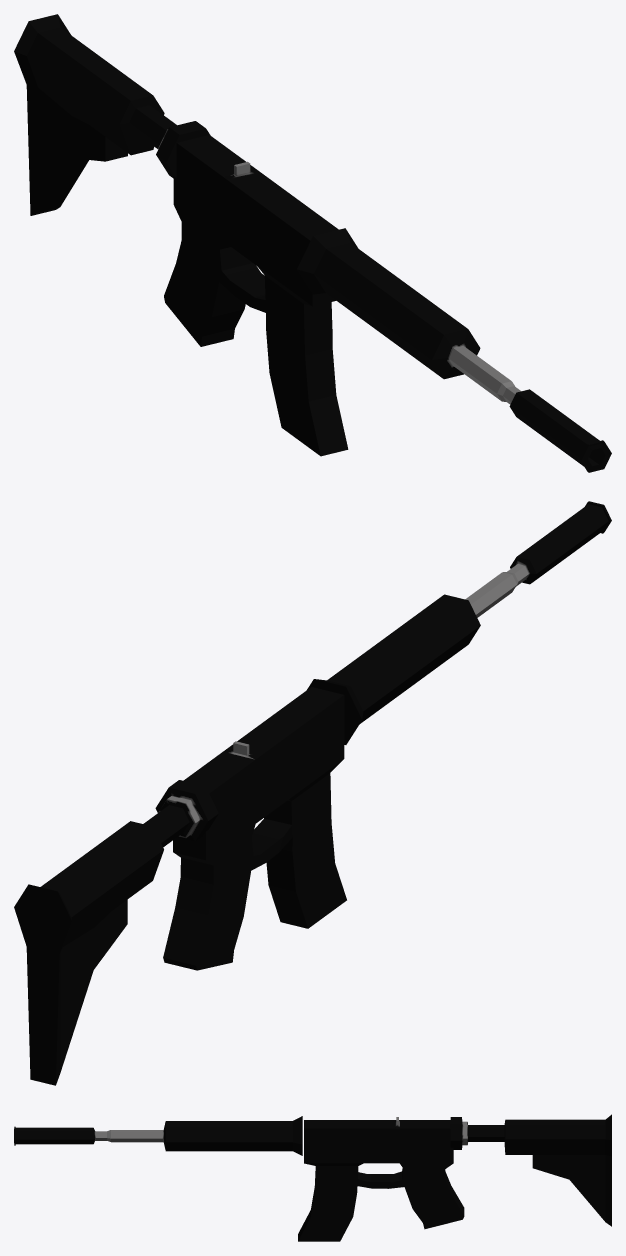
The model's file is WP_CarabinaM4.fbx.
The picture shows the model from 3 angles, top to bottom: view 1: azimuth 30°, elevation 25°; view 2: azimuth 150°, elevation 25°; view 3: azimuth 270°, elevation 25°; orthographic projection. The views are drawn at different scales.
Parts seen in each view (by area): view 1: WP_CarabinaM4; view 2: WP_CarabinaM4; view 3: WP_CarabinaM4.
Part boxes in pixels (left/top/right/bottom): WP_CarabinaM4: left=14, top=14, right=611, bottom=472; WP_CarabinaM4: left=14, top=501, right=611, bottom=1085; WP_CarabinaM4: left=14, top=1114, right=611, bottom=1241.
Size of the model in its own units: 2.53 by 8.31 by 37.55.
1 material, 1 textured.
